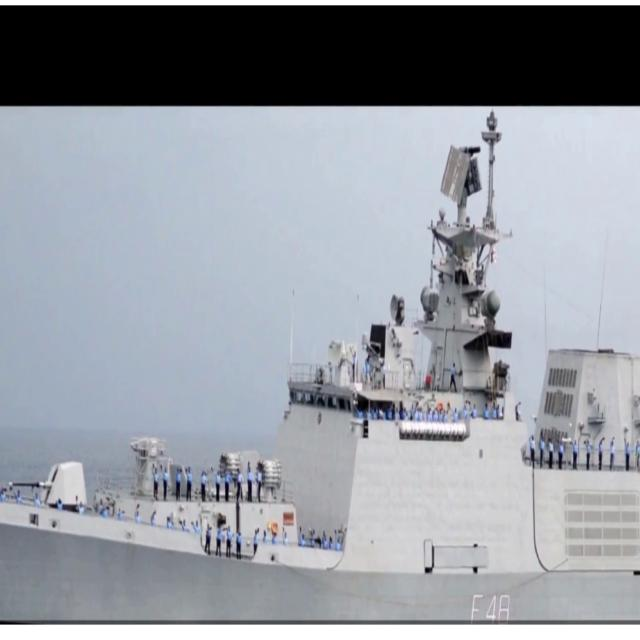OCR: (463, 586, 515, 623)
